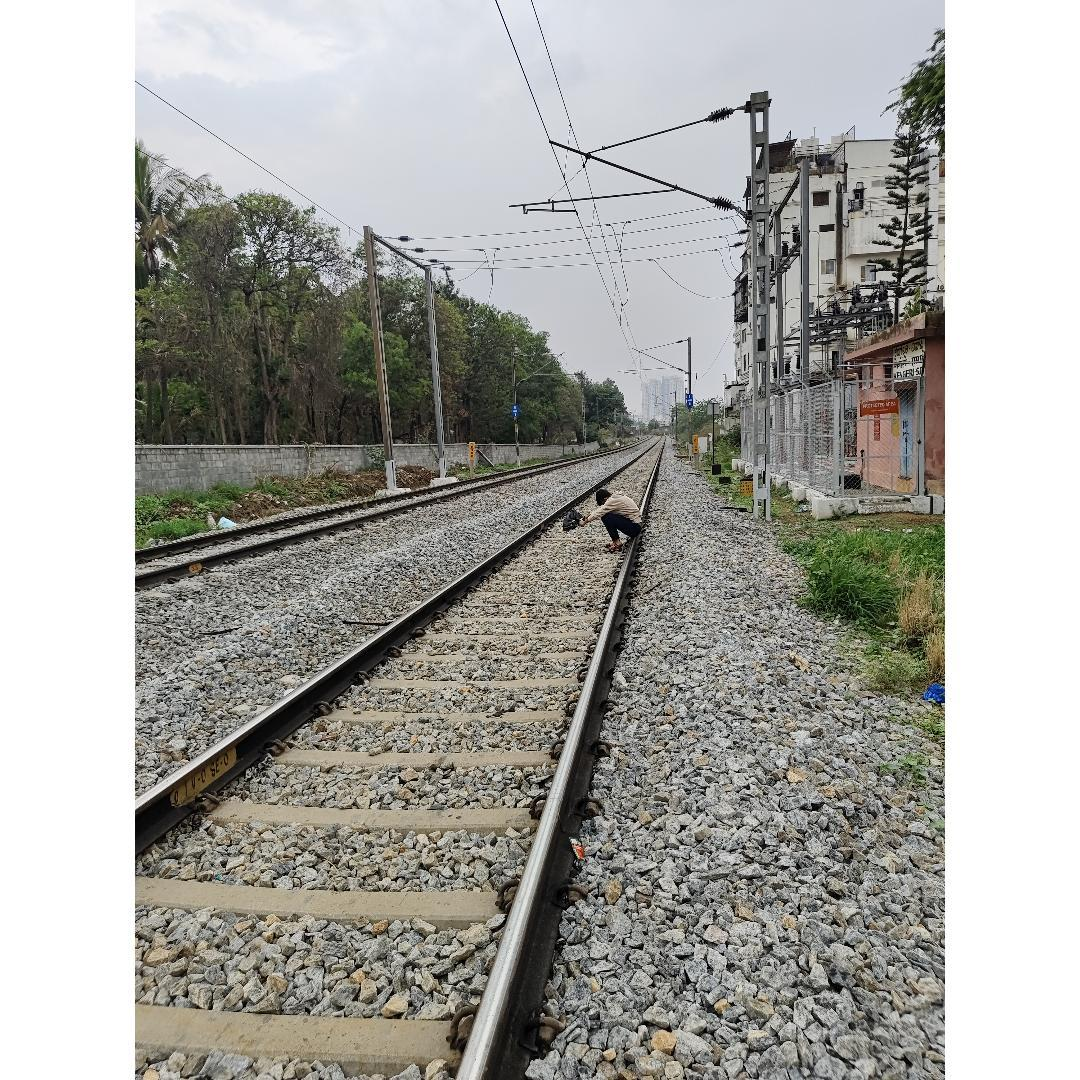sitting: (578, 486, 645, 552)
track: (136, 434, 684, 1080)
